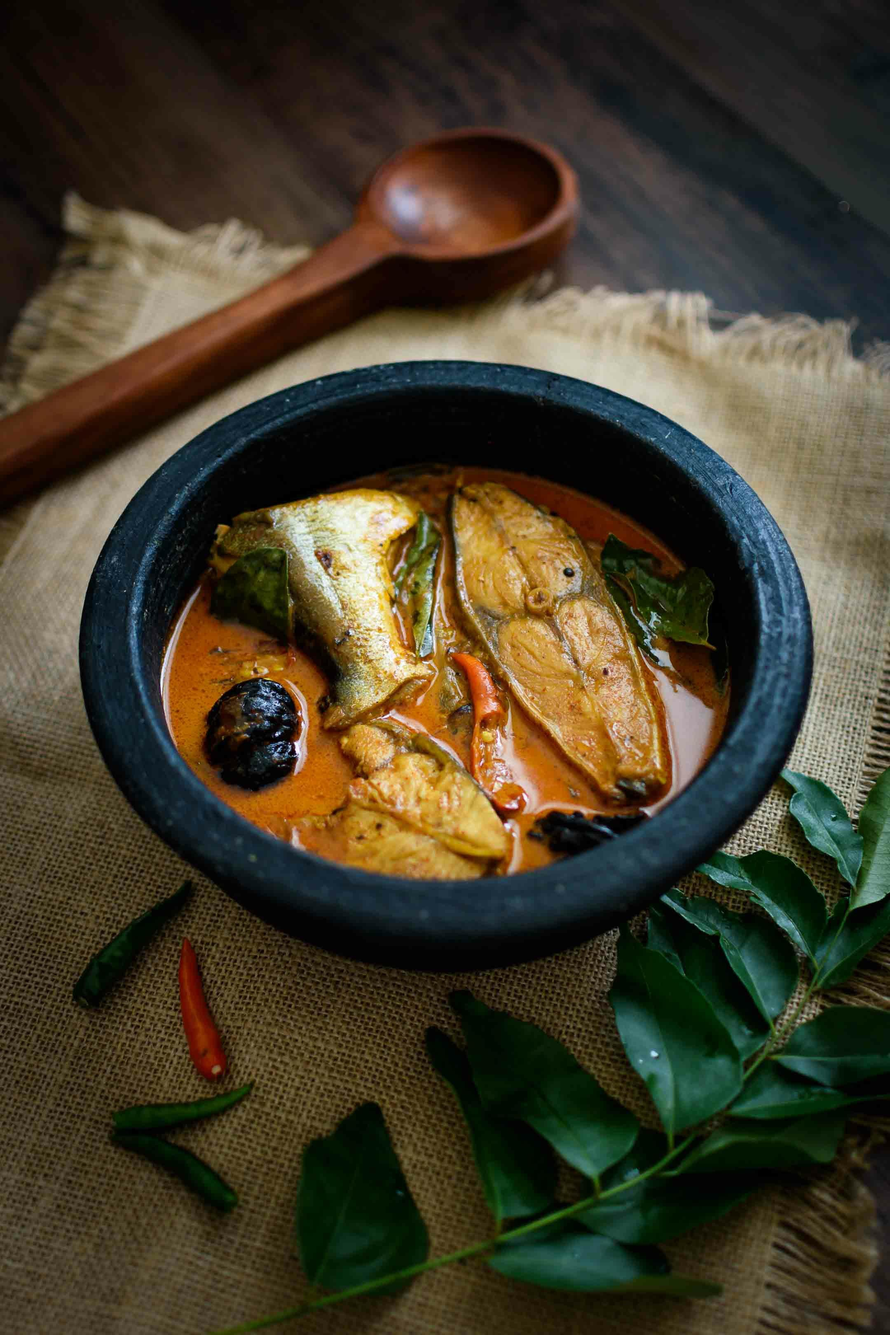FishCurry: (172, 453, 738, 877)
